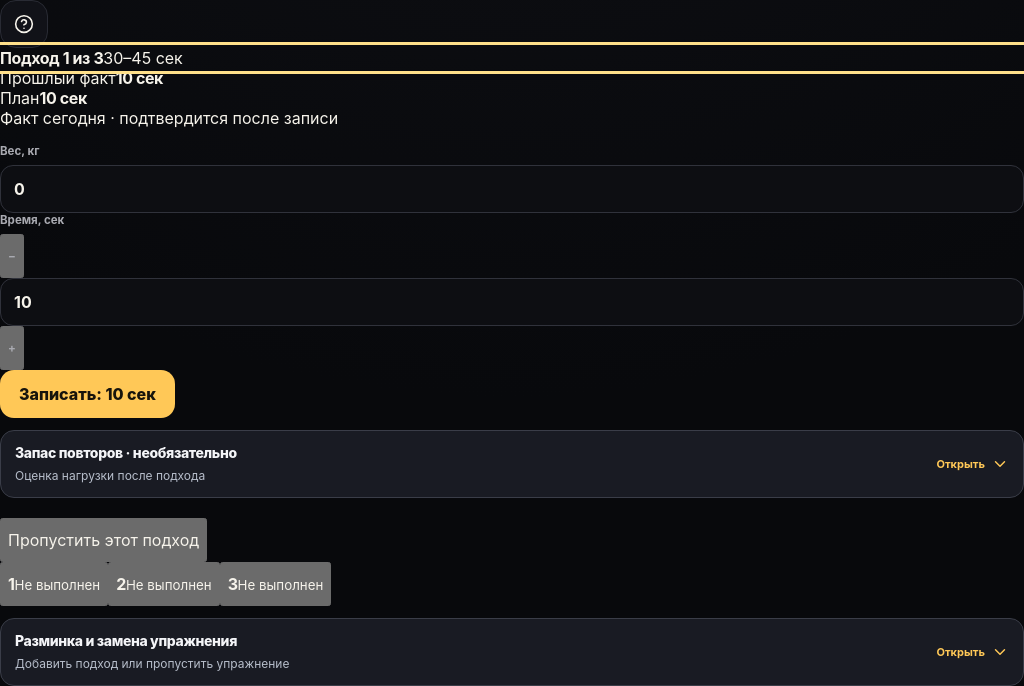
Scenario: completion and timed-entry edge cases › records seconds without a required weight or RIR and restores the confirmed value
The image size is (1024, 686).
(page scrolled)
Replace the text in the number field named "Жим 1, подход 1, секунды" with "42" at [512, 302], box x1=0 y1=278 x2=1023 y2=326
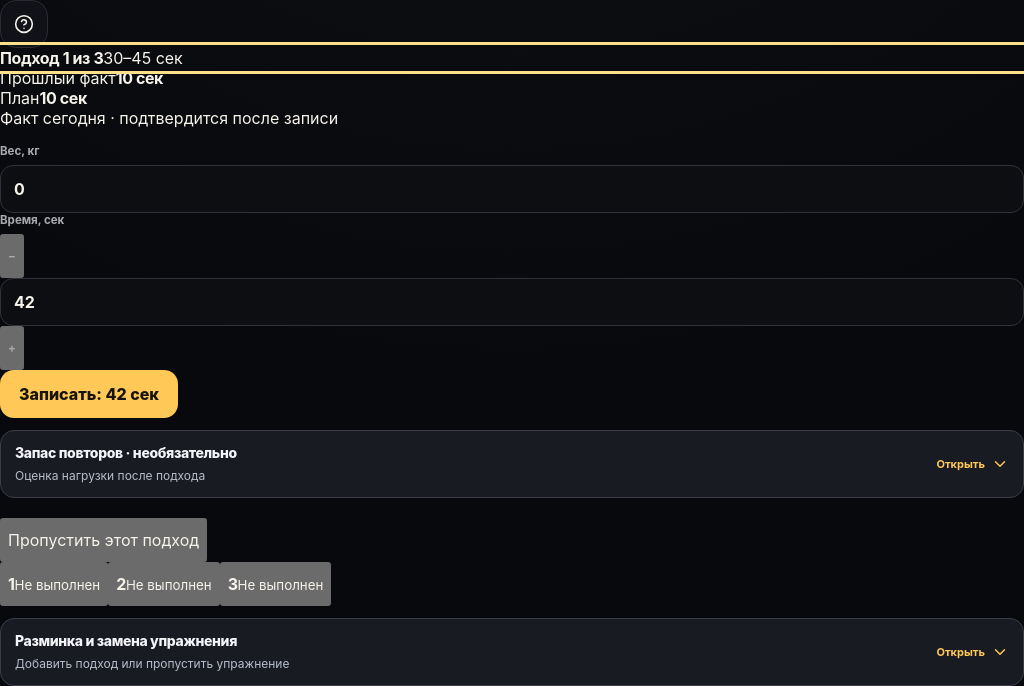
Click the button with aria-label "Записать подход 1 · Жим 1" at [89, 394], box x1=0 y1=370 x2=178 y2=418
(page scrolled)
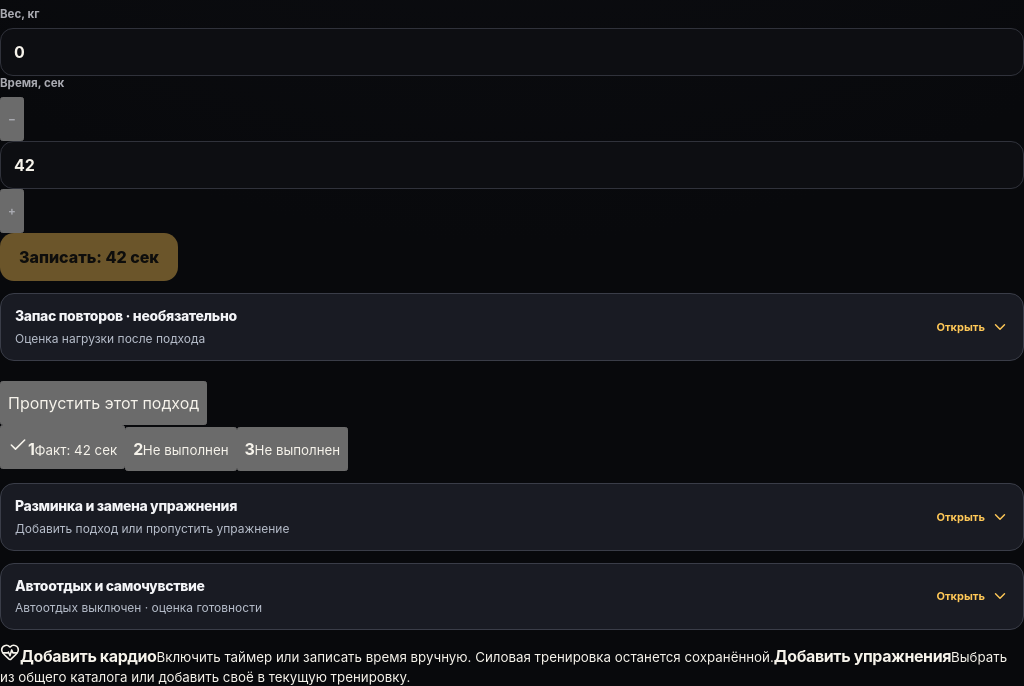
Expected: the button with aria-label "Подход 1 · записан · Жим 1" shows "42 сек", x1=0 y1=425 x2=125 y2=469
